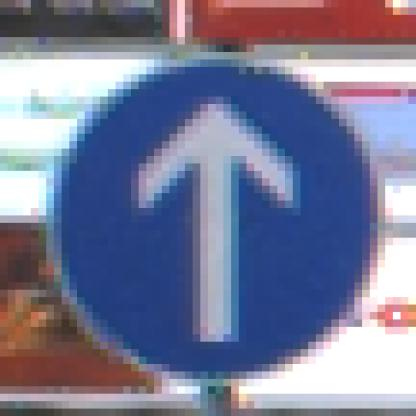AheadOnly: (40, 46, 379, 373)
